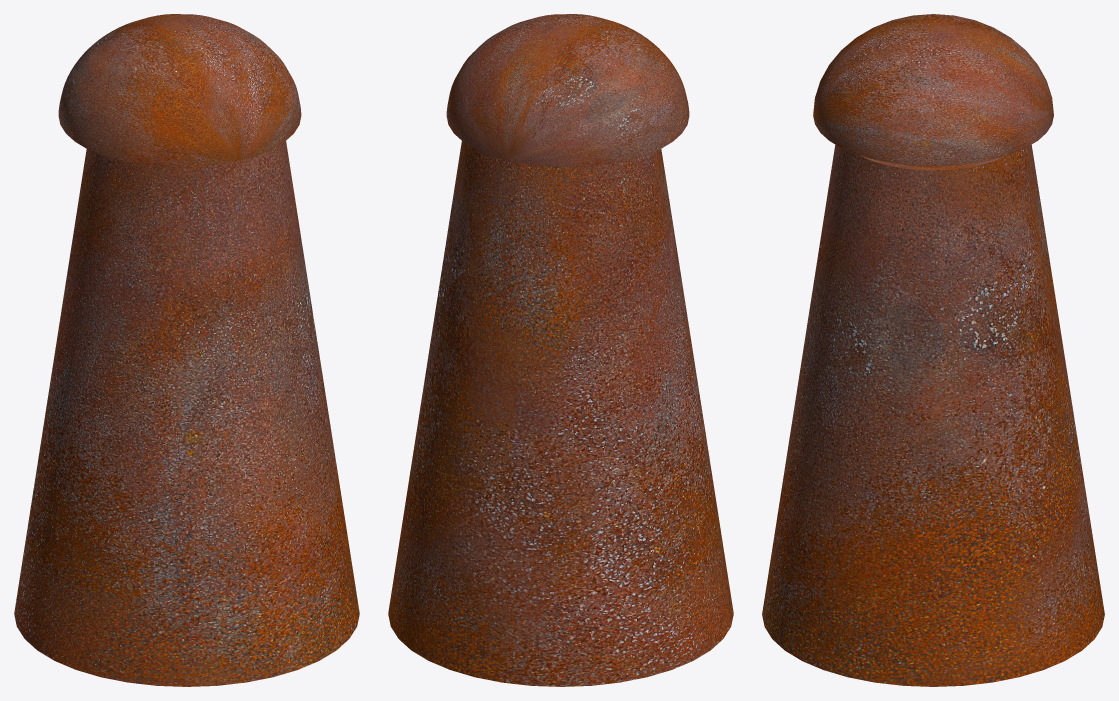
The model's file is tower-4.gltf.
The picture shows the model from 3 angles, left to right: view 1: azimuth 30°, elevation 25°; view 2: azimuth 150°, elevation 25°; view 3: azimuth 270°, elevation 25°; orthographic projection.
Bounding box in the file's own units: 10.3 × 19.34 × 10.3.
3 materials, 3 textured.
